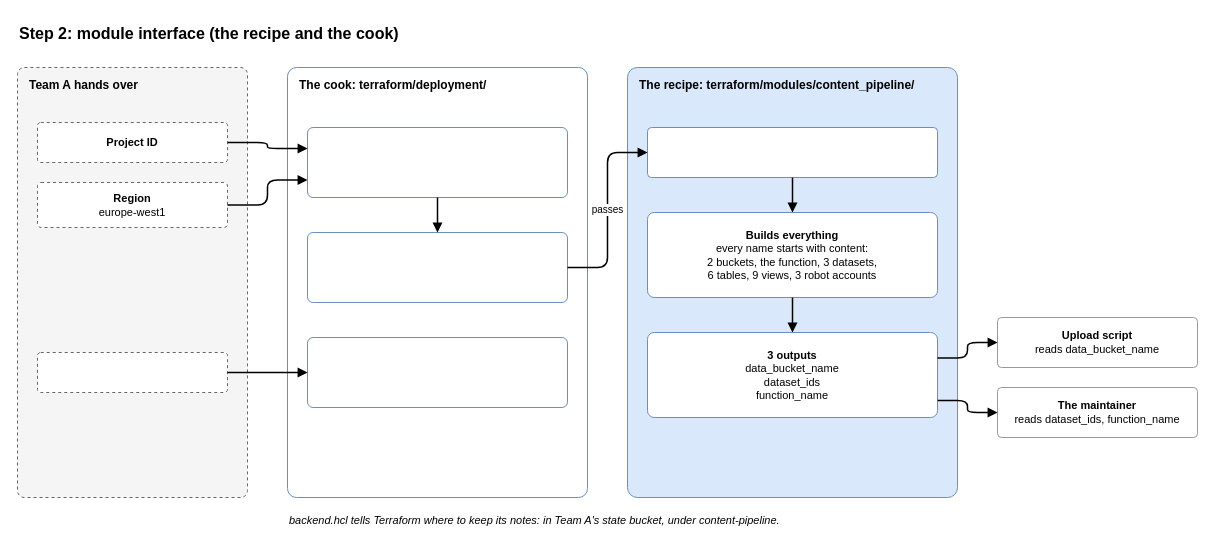
This 1215x549 diagram has some shape labels left out. Each missing label, with the centre of its shape:
2 inputs project_id, region: the point at 792,152
backend.hcl state bucket name laptop only; .example in git: the point at 437,372
main.tf calls the module with project_id and region: the point at 437,267
State bucket name: the point at 132,372
terraform.tfvars project_id, region laptop only; .example in git: the point at 437,162
